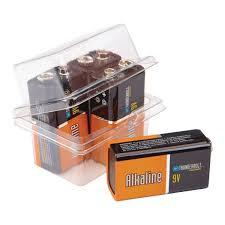9V: (106, 125, 219, 206)
